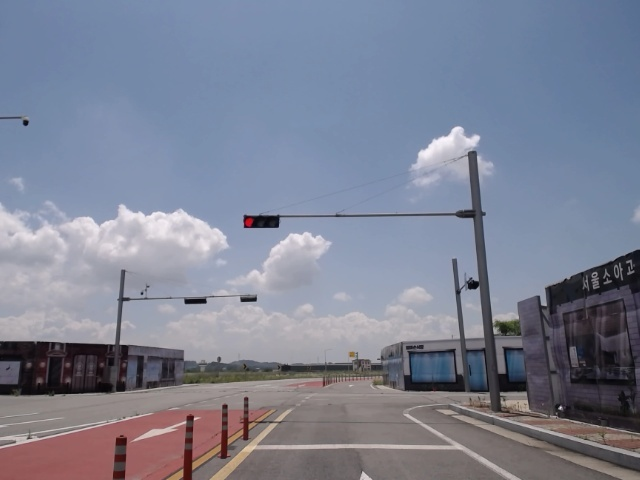red_3: (244, 215, 282, 229)
